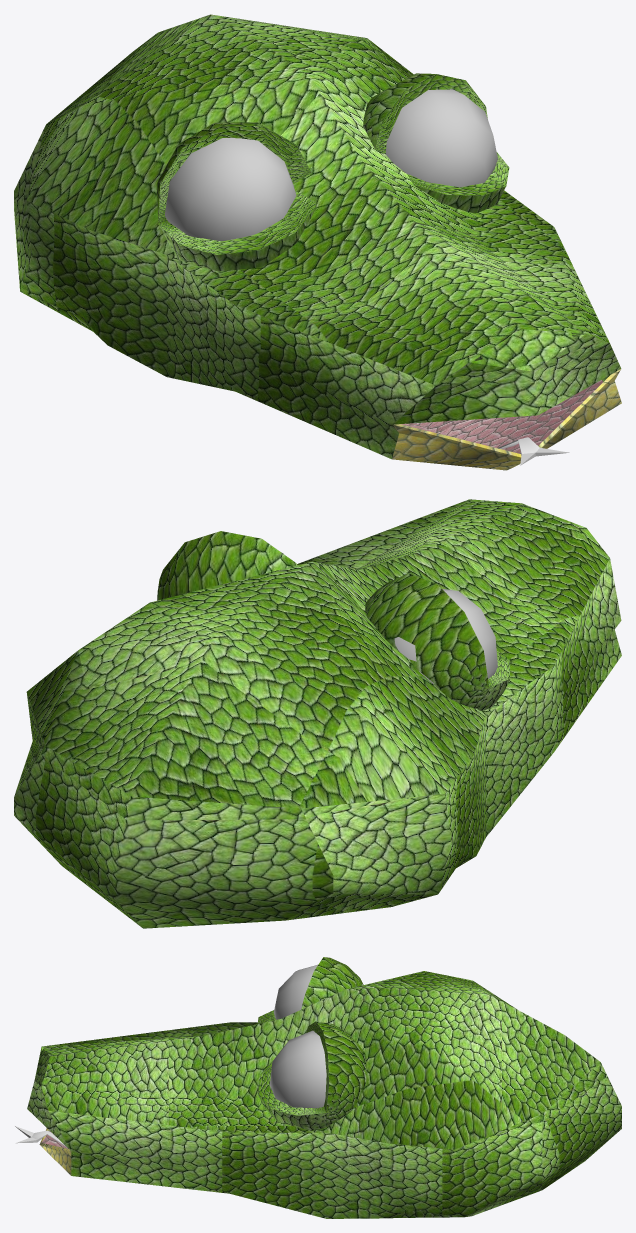
File: tête serpent.FBX
3 renders of one model, top to bottom at view 1: azimuth 30°, elevation 25°; view 2: azimuth 150°, elevation 25°; view 3: azimuth 270°, elevation 25°, orthographic. The views are drawn at different scales.
Visible parts, largest first — view 1: Boîte001, Sphère003, Sphère001, Sphère007, Sphère005, Boîte002; view 2: Boîte001, Sphère001, Sphère005, Sphère003; view 3: Boîte001, Sphère005, Sphère007, Sphère001, Sphère003.
Part boxes in pixels (bbox=[...]): Boîte001: bbox=[14, 14, 621, 470]; Sphère003: bbox=[165, 138, 296, 241]; Sphère001: bbox=[156, 122, 316, 271]; Sphère007: bbox=[385, 89, 497, 187]; Sphère005: bbox=[363, 73, 509, 213]; Boîte002: bbox=[497, 437, 569, 465]; Boîte001: bbox=[14, 499, 621, 928]; Sphère001: bbox=[365, 573, 510, 710]; Sphère005: bbox=[157, 531, 297, 600]; Sphère003: bbox=[394, 588, 497, 683]; Boîte001: bbox=[27, 971, 621, 1218]; Sphère005: bbox=[258, 1021, 367, 1129]; Sphère007: bbox=[269, 1030, 326, 1108]; Sphère001: bbox=[257, 957, 363, 1023]; Sphère003: bbox=[274, 964, 362, 1019].
Size of the model in its own units: 46.58 by 29.58 by 82.99.
